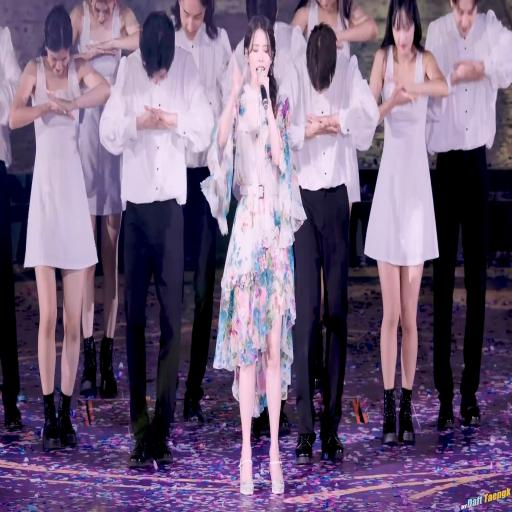IU: (244, 14, 276, 86)
